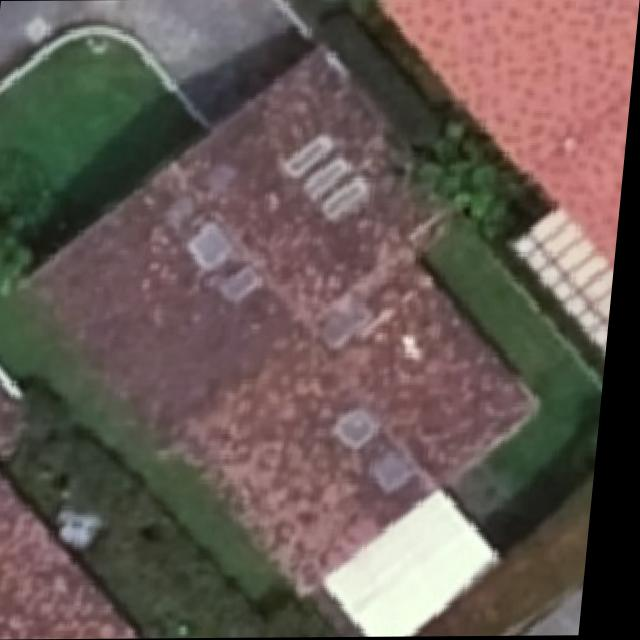Batiment: (38, 47, 540, 591), (382, 0, 638, 262), (0, 375, 150, 639)
